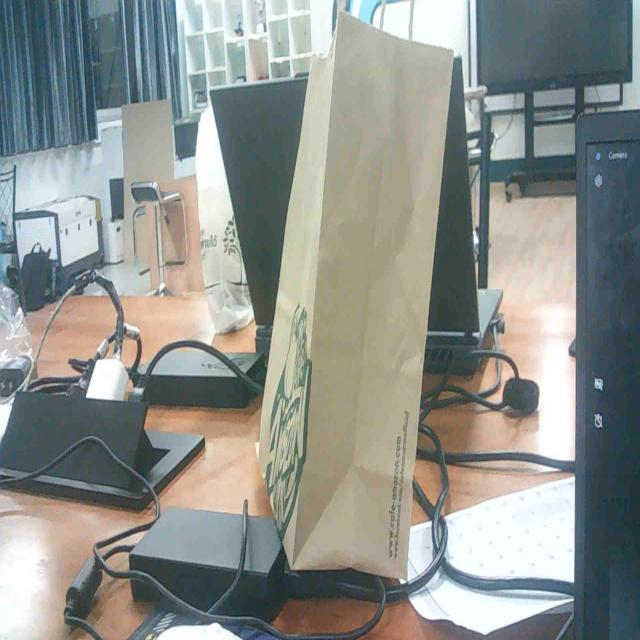bag: (246, 0, 482, 616)
